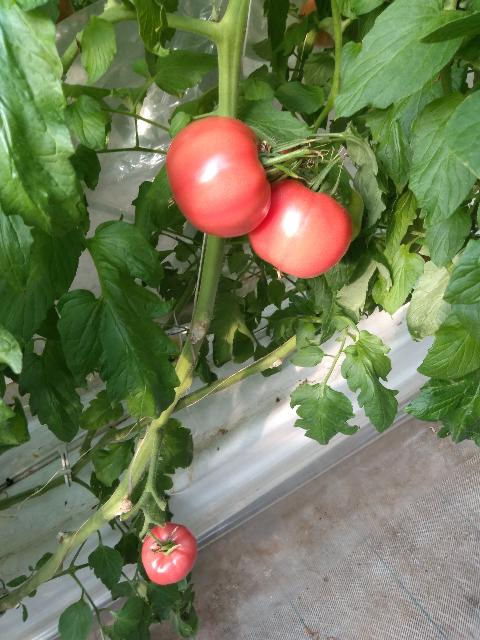b_fully_ripened: (166, 116, 271, 238), (248, 179, 353, 278), (141, 522, 198, 584)
